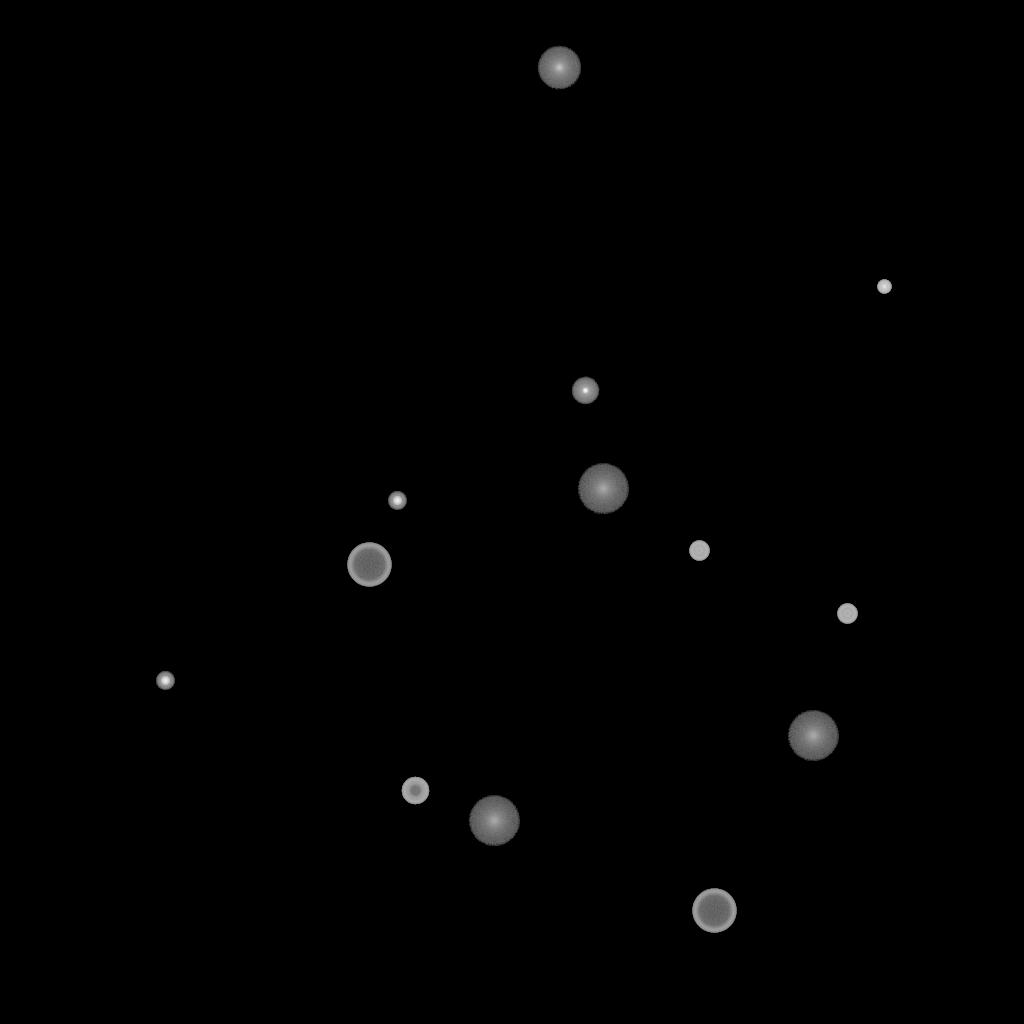depth:-10: (571, 377, 599, 405)
depth:-20: (388, 492, 406, 510), (156, 672, 174, 690)
depth:-30: (877, 280, 891, 294)
depth:-40: (837, 604, 857, 624), (689, 541, 709, 561)
depth:-50: (401, 777, 429, 805)
depth:-70: (692, 889, 736, 933), (347, 543, 391, 587)
depth:10: (537, 46, 581, 90)
depth:20: (787, 711, 839, 761), (468, 796, 520, 846), (577, 464, 629, 514)
